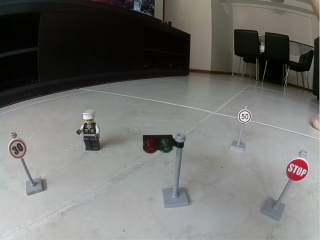Green Traffic Light: (142, 133, 191, 209)
Person: (75, 109, 102, 153)
Speed Limit 30: (8, 139, 27, 158)
Speed Limit 50: (238, 109, 251, 123)
Stop Sign: (285, 158, 309, 182)
